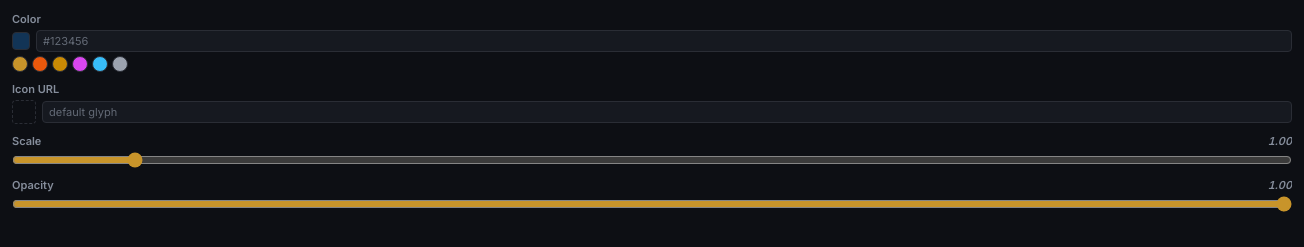
Scenario: StyleEditor — hex validation › rejects an alpha hex (4-/8-digit) and points at the opacity slider
Type "#ff000080" into the field with id "se-color" at [664, 41], box [36, 30, 1292, 52]
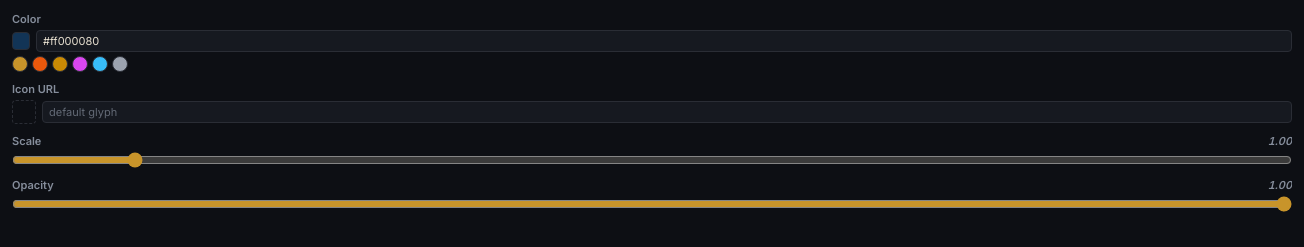
Leave the field with id "se-color", box [36, 30, 1292, 52]
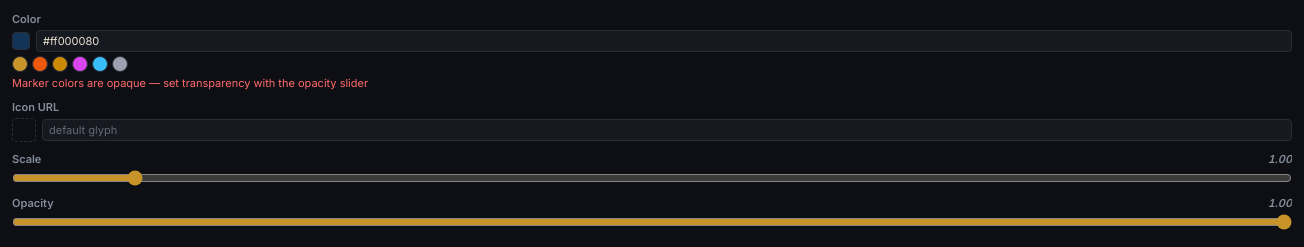
Result: the message shows "opacity" at [12, 76, 368, 90]
